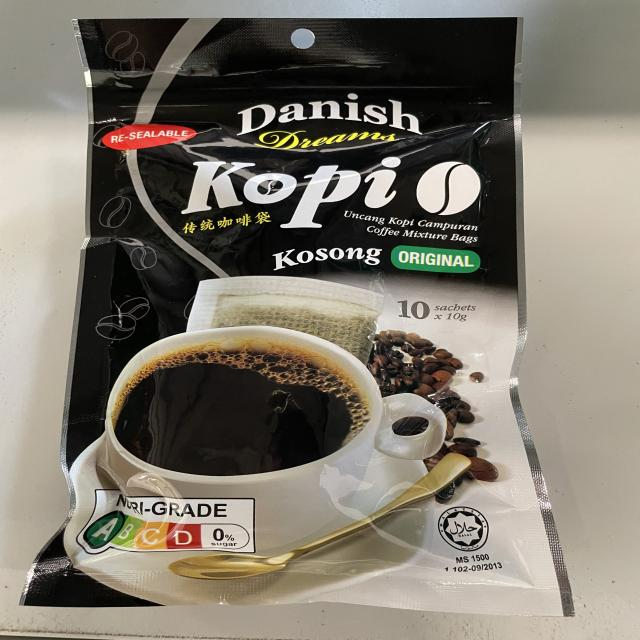object_name: (74, 18, 542, 612)
